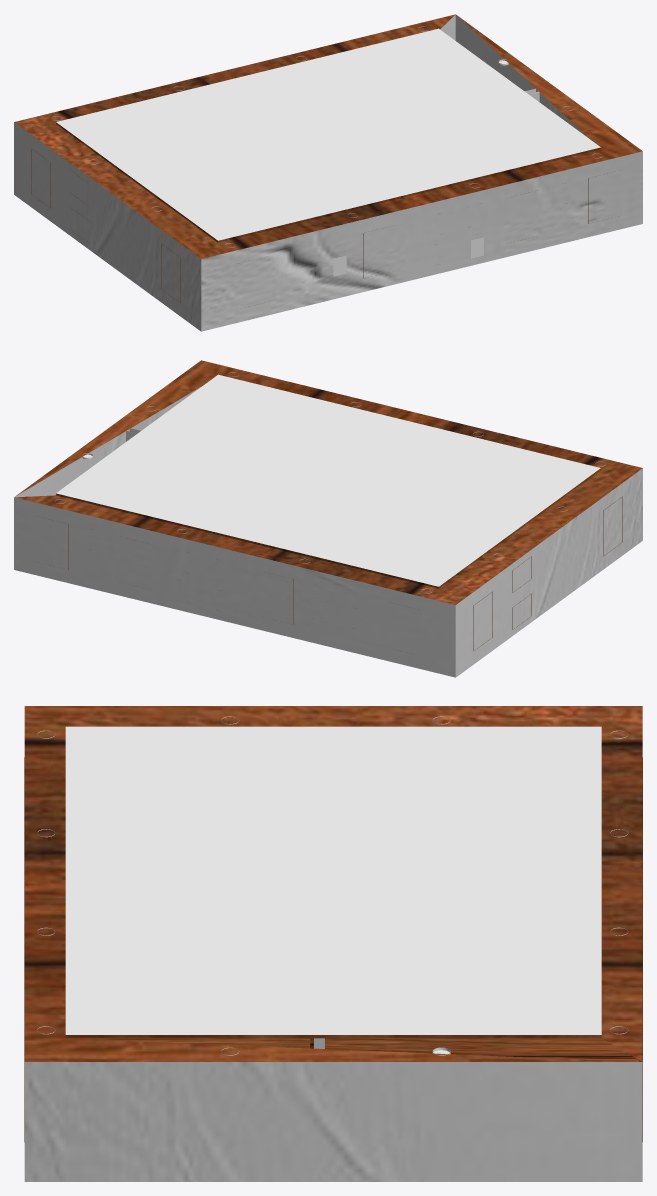
File: branco.glb
3 views of the same model, one above another, from view 1: azimuth 30°, elevation 25°; view 2: azimuth 150°, elevation 25°; view 3: azimuth 270°, elevation 25° (orthographic). The views are drawn at different scales.
Parts seen in each view (by area): view 1: Parede; view 2: Parede; view 3: Parede.
Boxes of the visible parts, x1,y1,x2,y2 form: Parede: (14,14,642,331); Parede: (14,360,642,677); Parede: (24,706,642,1181).
Size of the model in its own units: 2764 by 446 by 2063.
5 materials, 3 textured.
